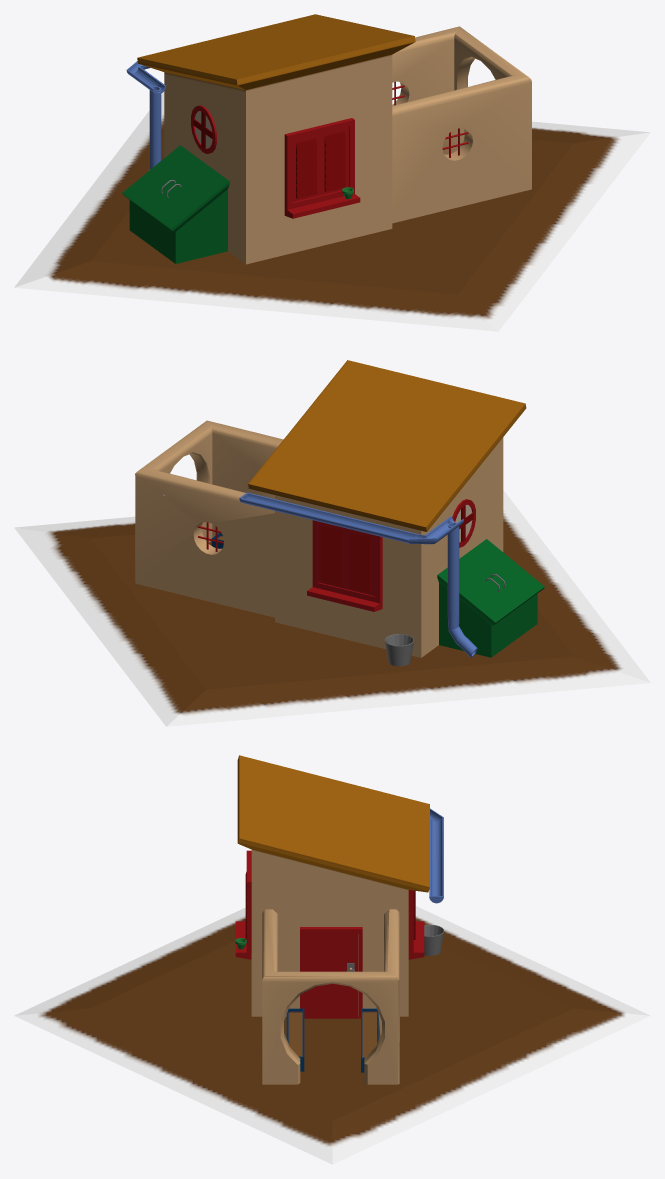
File: house1.gltf
The picture shows the model from 3 angles, top to bottom: view 1: azimuth 30°, elevation 25°; view 2: azimuth 150°, elevation 25°; view 3: azimuth 270°, elevation 25°; orthographic projection. The views are drawn at different scales.
Visible parts, largest first — view 1: Box001; view 2: Box001; view 3: Box001.
Part boxes in pixels (box(x1,y1,x2,y2)): Box001: box(14, 14, 650, 331); Box001: box(14, 360, 650, 726); Box001: box(14, 755, 650, 1164).
Size of the model in its own units: 135 by 40.73 by 122.
1 material, 1 textured.
